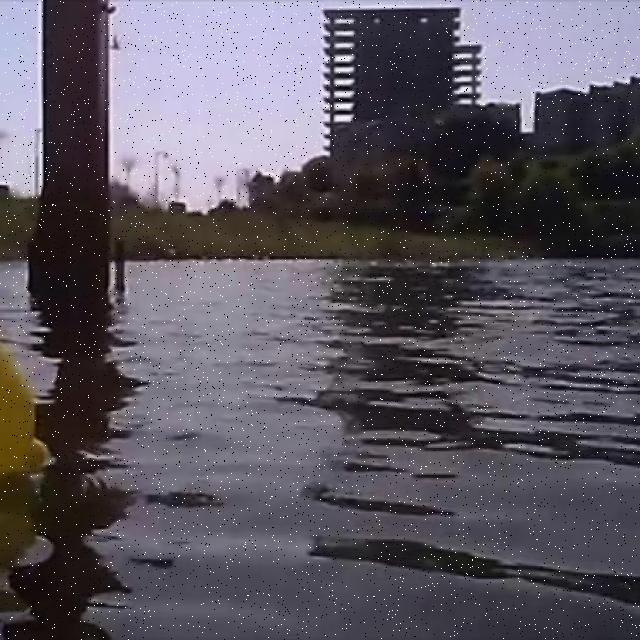buoy: (0, 337, 48, 488)
